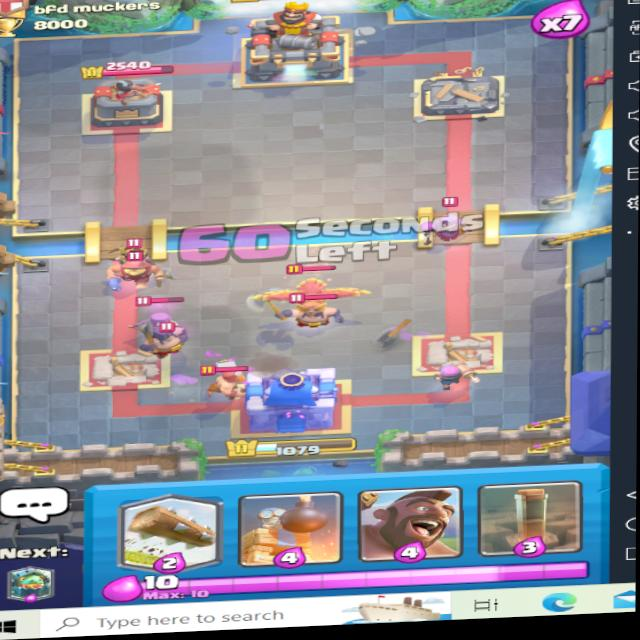executioner: (268, 284, 352, 334), (133, 317, 194, 359)
fisherman: (102, 243, 182, 295)
little-prince: (106, 232, 158, 277)
lumberjack: (197, 360, 261, 395)
mother-witch: (126, 294, 205, 341), (420, 190, 478, 249)
phoenix: (259, 262, 358, 320)
